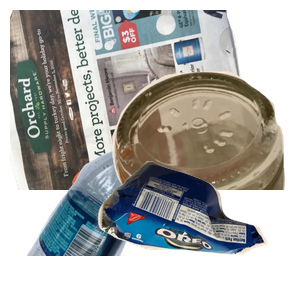glass: (89, 69, 300, 249)
paper: (10, 10, 250, 190)
plastic: (24, 120, 182, 300)
trash: (95, 158, 300, 300)
